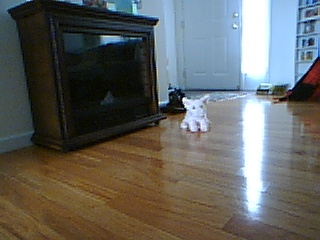piggy: (178, 94, 214, 133)
